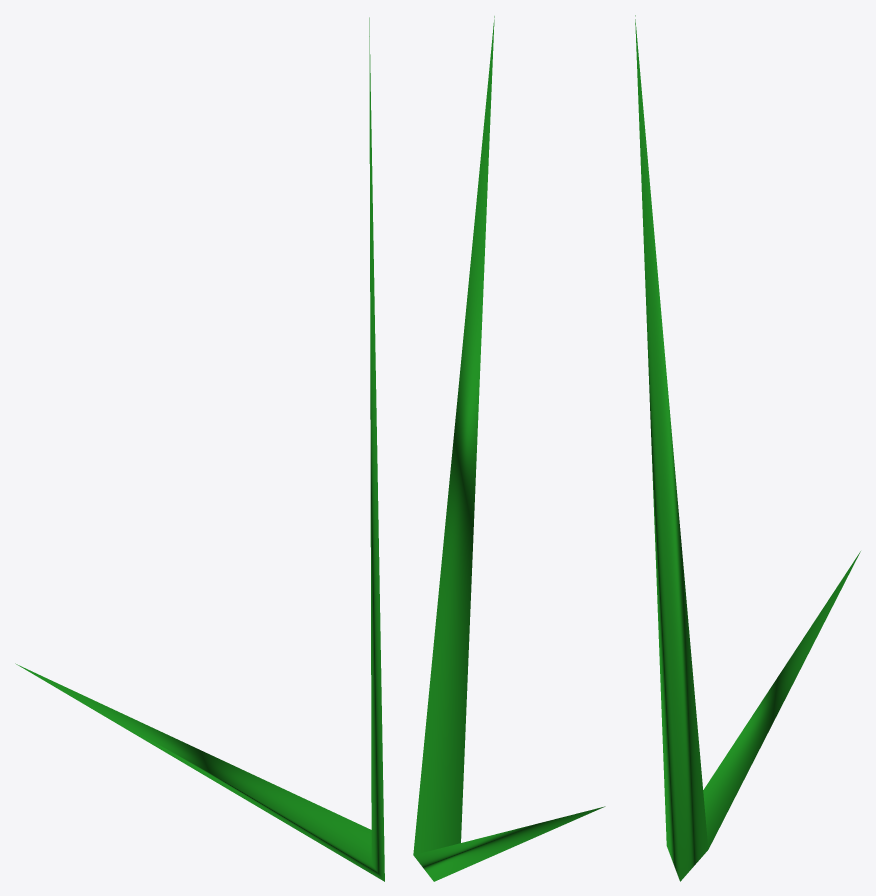
The model's file is gingerPlantSapling_low.glb.
The picture shows the model from 3 angles, left to right: view 1: azimuth 30°, elevation 25°; view 2: azimuth 150°, elevation 25°; view 3: azimuth 270°, elevation 25°; orthographic projection. The views are drawn at different scales.
Parts seen in each view (by area): view 1: Icosphere; view 2: Icosphere; view 3: Icosphere.
Part boxes in pixels (bbox=[...]): Icosphere: bbox=[15, 17, 384, 881]; Icosphere: bbox=[413, 16, 605, 881]; Icosphere: bbox=[635, 15, 860, 881].
Bounding box in the file's own units: 0.3466 × 1.05 × 0.2544.
